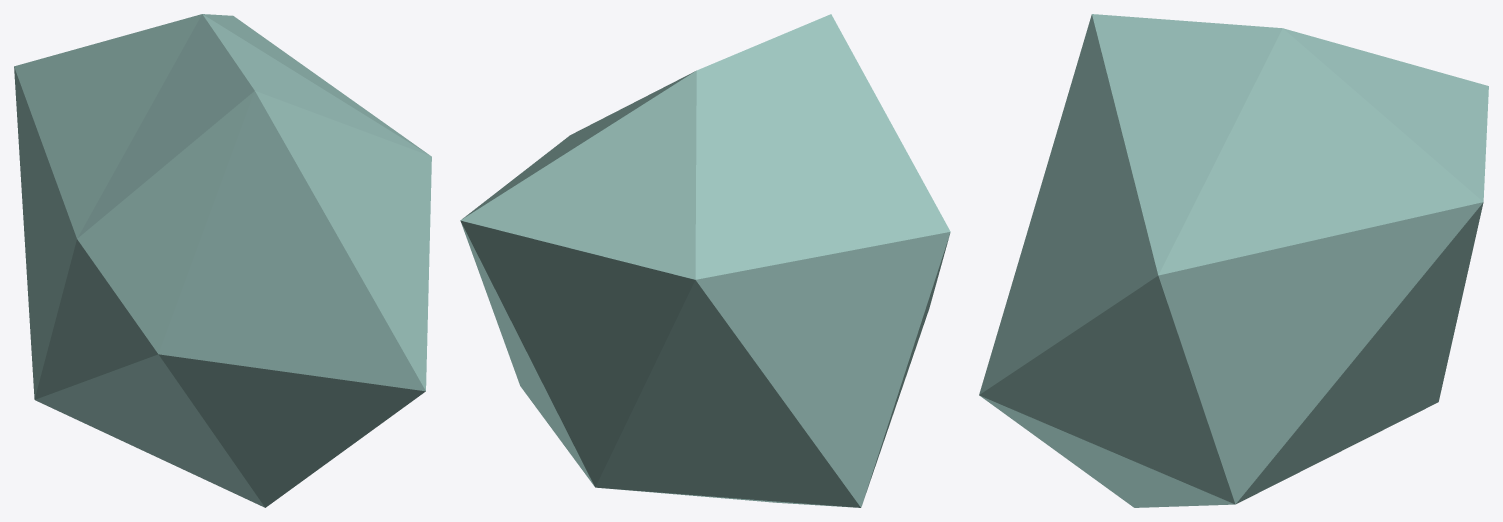
Rendered from 240519_rock_small_03.glb.
3 renders of one model, left to right at view 1: azimuth 30°, elevation 25°; view 2: azimuth 150°, elevation 25°; view 3: azimuth 270°, elevation 25°, orthographic. The views are drawn at different scales.
Parts seen in each view (by area): view 1: Icosphere.023; view 2: Icosphere.023; view 3: Icosphere.023.
Part boxes in pixels (x1,y1,x2,y2): Icosphere.023: (14,14,431,507); Icosphere.023: (460,14,950,507); Icosphere.023: (979,14,1488,507).
Bounding box in the file's own units: 1.29 × 1.52 × 1.45.
